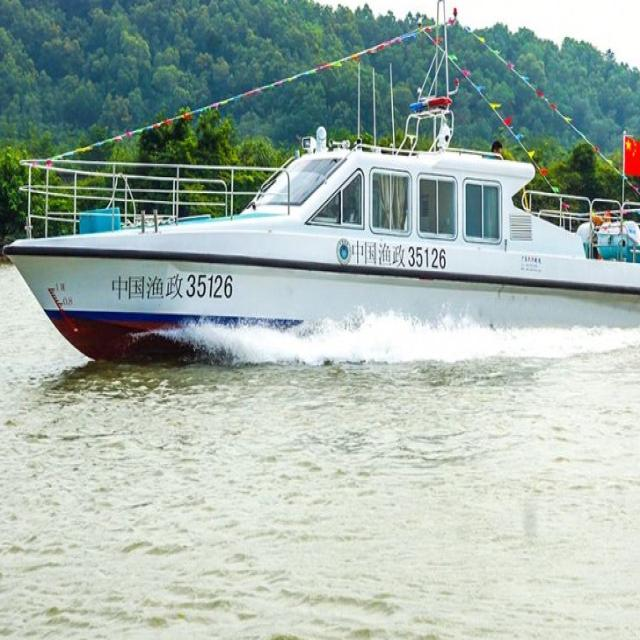houseboat: (12, 130, 640, 358)
